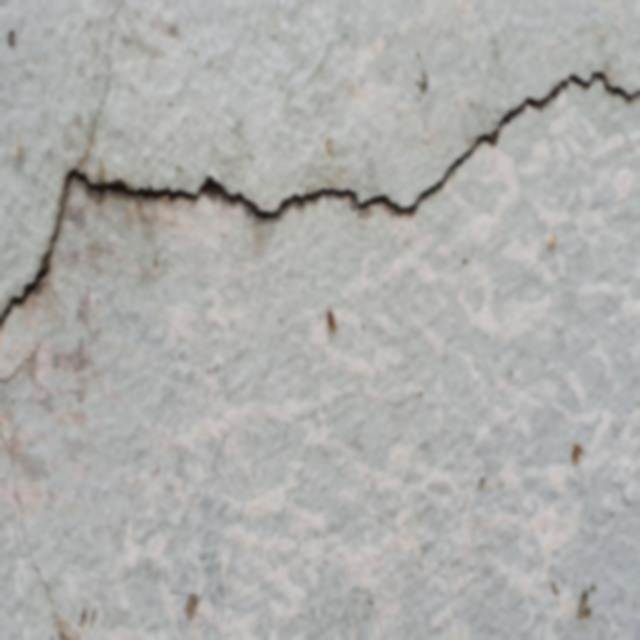SurfaceCrack: (0, 27, 638, 250)
